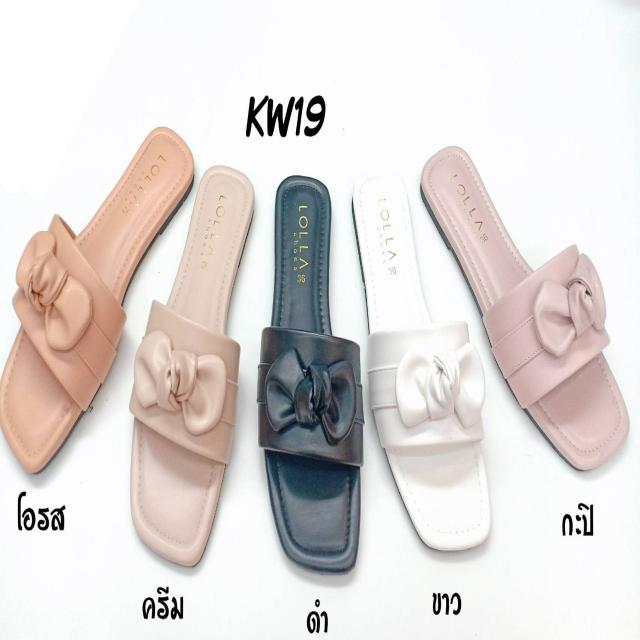black: (268, 178, 362, 564)
cream: (131, 167, 253, 562)
kapi: (424, 143, 628, 472)
orot: (1, 119, 192, 463)
white: (351, 175, 488, 546)
